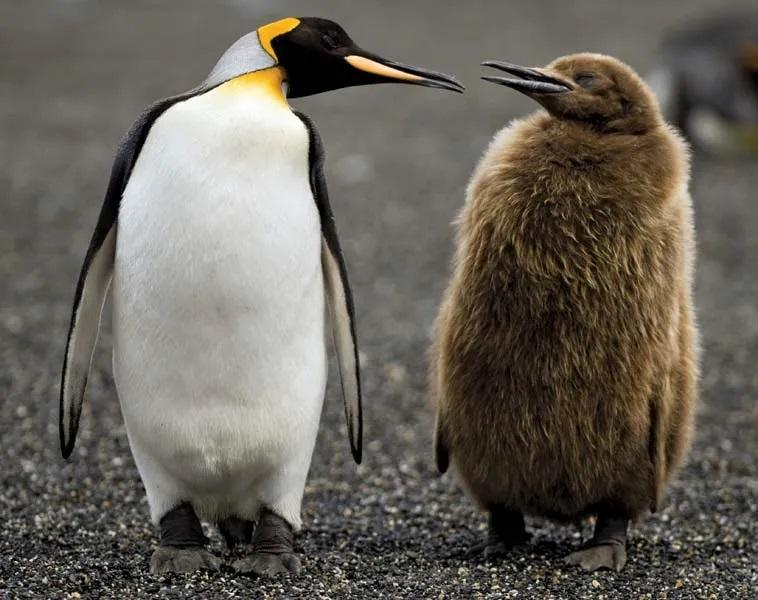king: (33, 9, 475, 540)
